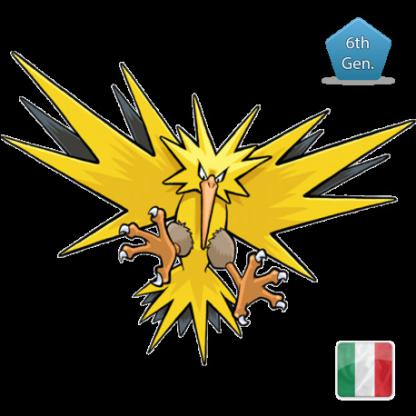Zapdos: (1, 53, 416, 372)
